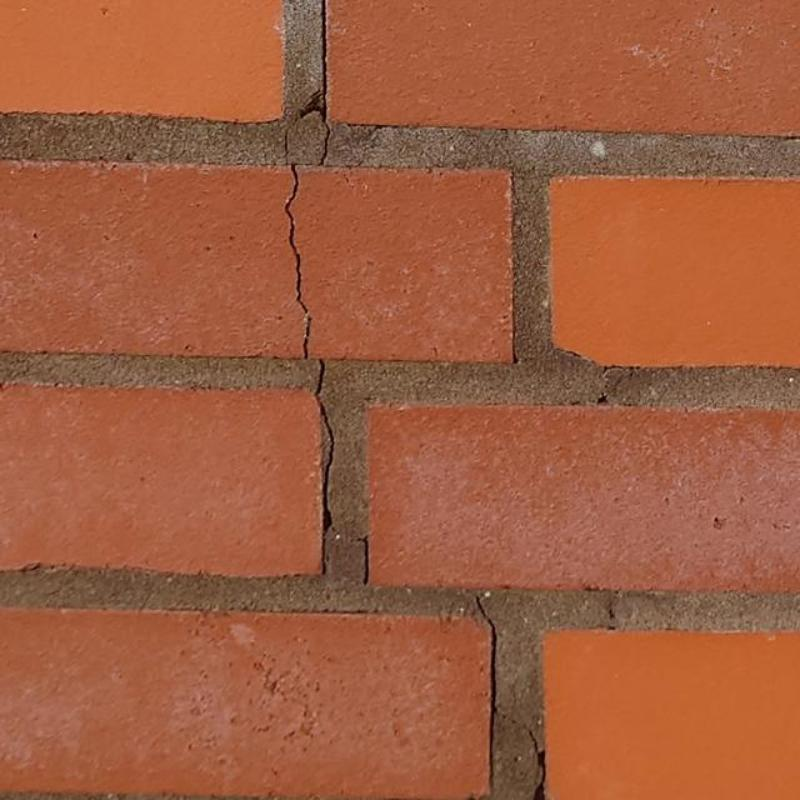pothole: (283, 0, 332, 166), (313, 359, 335, 576), (476, 595, 499, 787), (286, 166, 309, 358), (528, 729, 547, 799), (362, 535, 371, 584)
